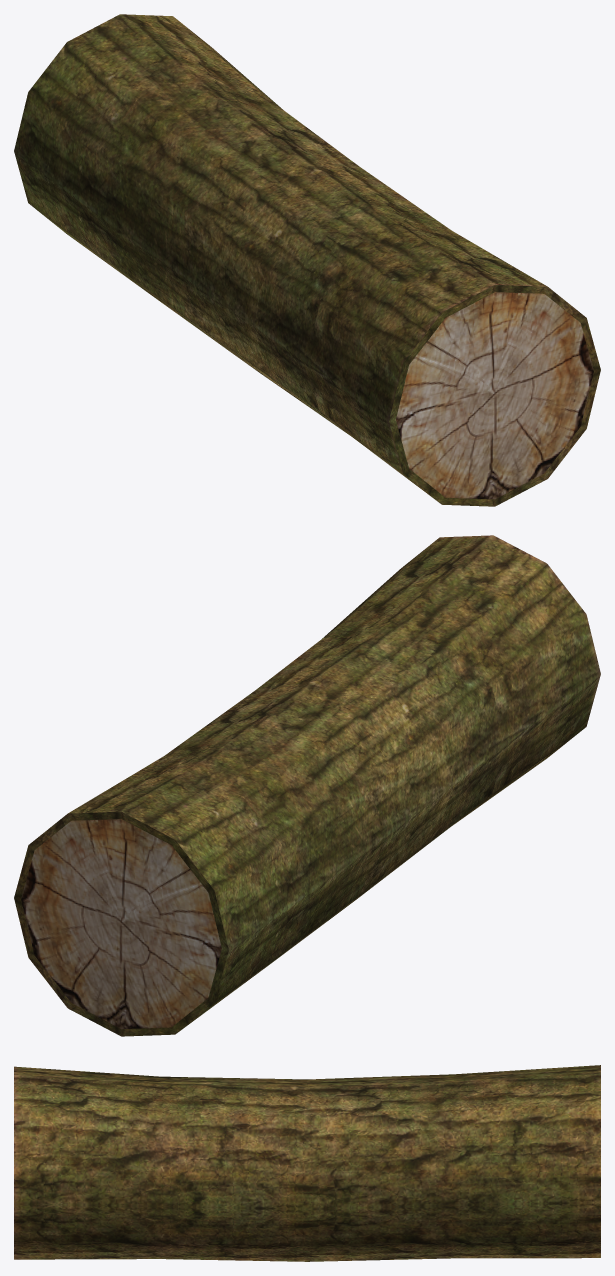
The model's file is Log01.FBX.
3 renders of one model, top to bottom at view 1: azimuth 30°, elevation 25°; view 2: azimuth 150°, elevation 25°; view 3: azimuth 270°, elevation 25°, orthographic. The views are drawn at different scales.
Parts seen in each view (by area): view 1: Log01; view 2: Log01; view 3: Log01.
Boxes of the visible parts, x1,y1,x2,y2 form: Log01: (14, 14, 600, 506); Log01: (14, 535, 600, 1036); Log01: (14, 1065, 600, 1261).
Bounding box in the file's own units: 99.11 × 98.8 × 295.
